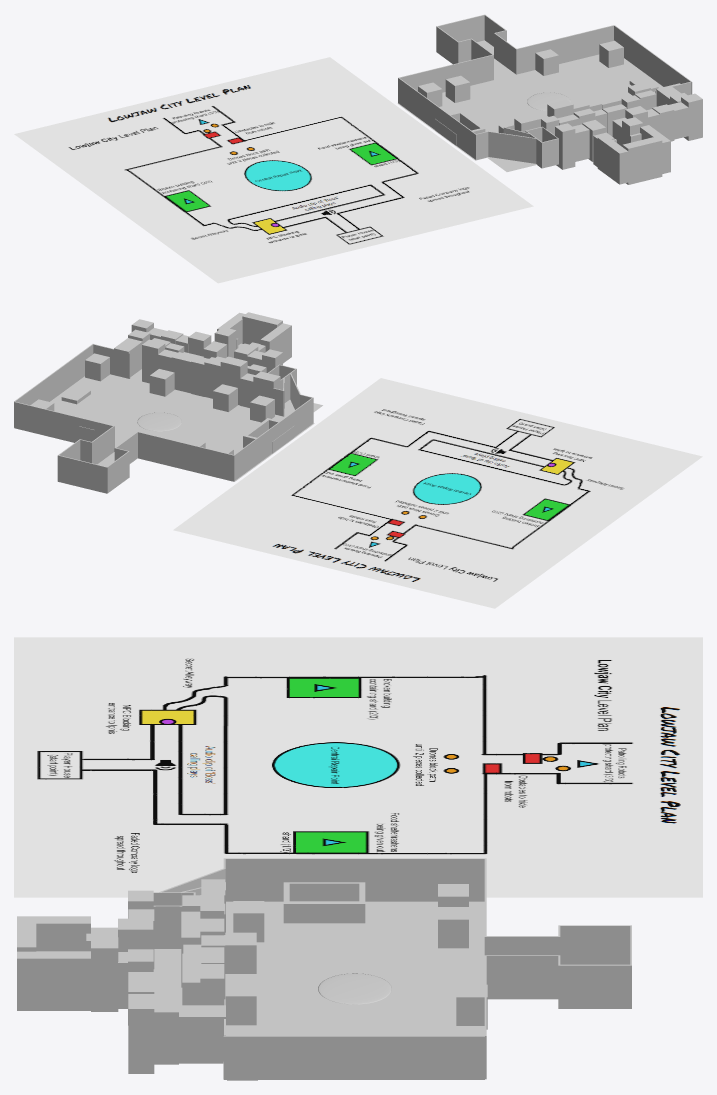
File: Test Map - Lowjaw.fbx
3 views of the same model, one above another, from view 1: azimuth 30°, elevation 25°; view 2: azimuth 150°, elevation 25°; view 3: azimuth 270°, elevation 25° (orthographic). The views are drawn at different scales.
Visible parts, largest first — view 1: Level_Plan_Ref, Floor__4_, Wall_1___11_, Wall_1___21_, Wall_1___12_, Wall_1___20_, Building, Wall_1___28_, Building_2, Wall_1___13_, Building_6, Building_25 (+11 smaller); view 2: Level_Plan_Ref, Floor__4_, Wall_1___12_, Wall_1___11_, Wall_1___21_, Wall_1___20_, Wall_1___13_, Building, Building_14, Building_2, Building_11, Wall_1___9_ (+11 smaller); view 3: Level_Plan_Ref, Floor__4_, Wall_1___20_, Wall_1___21_, Building_1 (×2), Wall_1___19_, Wall_1___17_, Wall_1___16_, Building_27, Building_25, Building_2, Sphere (+15 smaller).
Part boxes in pixels (x1,y1,x2,y2): Level_Plan_Ref: (14, 57, 533, 283); Floor__4_: (397, 54, 662, 159); Wall_1___11_: (515, 25, 613, 74); Wall_1___21_: (398, 78, 476, 160); Wall_1___12_: (398, 54, 493, 102); Wall_1___20_: (614, 25, 692, 94); Building: (622, 136, 662, 184); Wall_1___28_: (488, 131, 536, 163); Building_2: (597, 135, 628, 184); Wall_1___13_: (436, 14, 485, 51); Building_6: (555, 123, 575, 169); Building_25: (681, 93, 702, 140); Level_Plan_Ref: (173, 378, 702, 608); Floor__4_: (50, 374, 314, 481); Wall_1___12_: (138, 431, 234, 481); Wall_1___11_: (14, 401, 114, 451); Wall_1___21_: (234, 397, 313, 480); Wall_1___20_: (14, 344, 93, 427); Wall_1___13_: (57, 455, 107, 493); Building: (242, 312, 282, 344); Building_14: (171, 352, 197, 393); Building_2: (260, 323, 291, 363); Building_11: (220, 356, 247, 405); Wall_1___9_: (93, 344, 130, 378); Level_Plan_Ref: (14, 637, 702, 897); Floor__4_: (223, 901, 484, 1078); Wall_1___20_: (223, 1036, 484, 1079); Wall_1___21_: (223, 858, 484, 901); Building_1 (×2): (17, 937, 118, 1011); Wall_1___19_: (485, 955, 558, 999); Wall_1___17_: (559, 964, 630, 1008); Wall_1___16_: (559, 925, 630, 964); Building_27: (179, 1005, 225, 1063); Building_25: (128, 997, 154, 1073); Building_2: (17, 916, 90, 951); Sphere: (318, 973, 391, 1004).
Size of the model in its own units: 28526 by 2296 by 18792.
